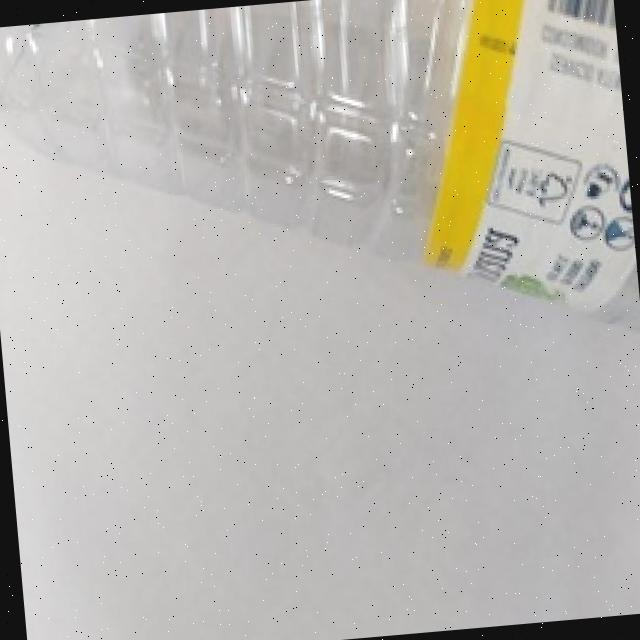bottle: (0, 0, 640, 407)
label: (374, 4, 638, 309)
